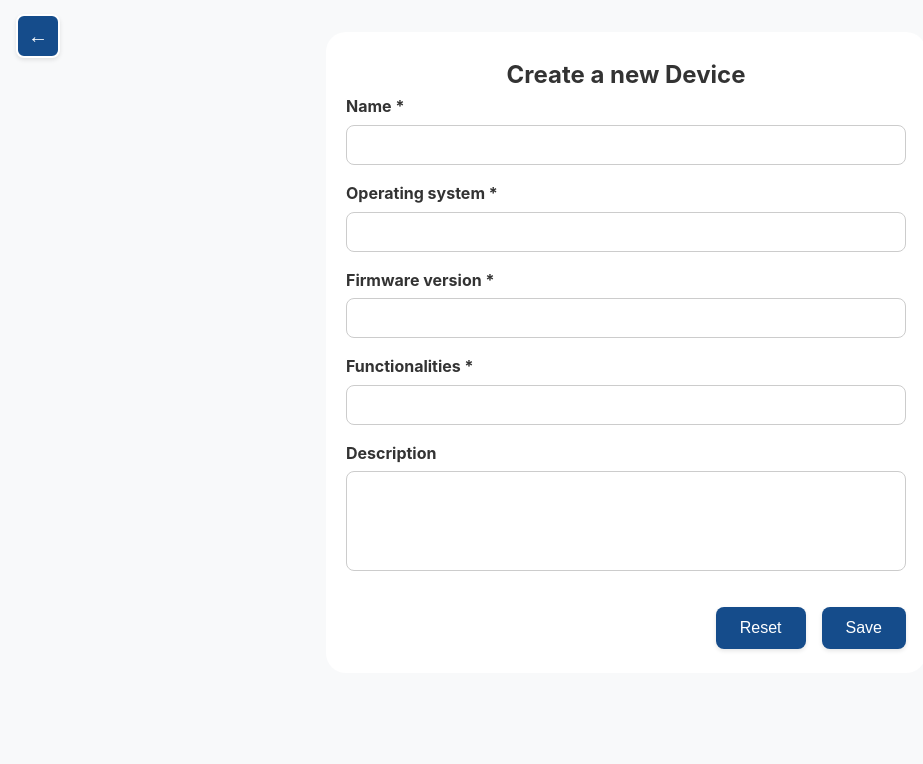
DeviceFormView — validation › shows validation errors if the form is submitted empty
Click the button "Save". click: click(864, 628)
box: [822,607,906,649]
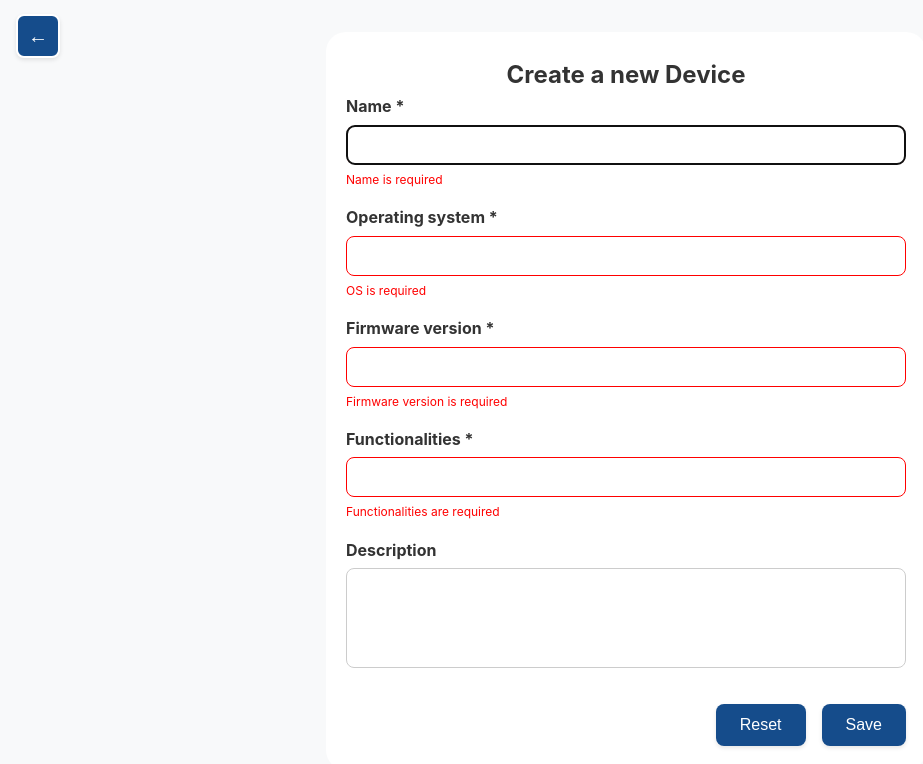
Expected: the text "Name is required" is shown, [346,172,443,187]
Expected: the text "OS is required" is shown, [346,283,426,298]
Expected: the text "Firmware version is required" is shown, [346,394,507,408]
